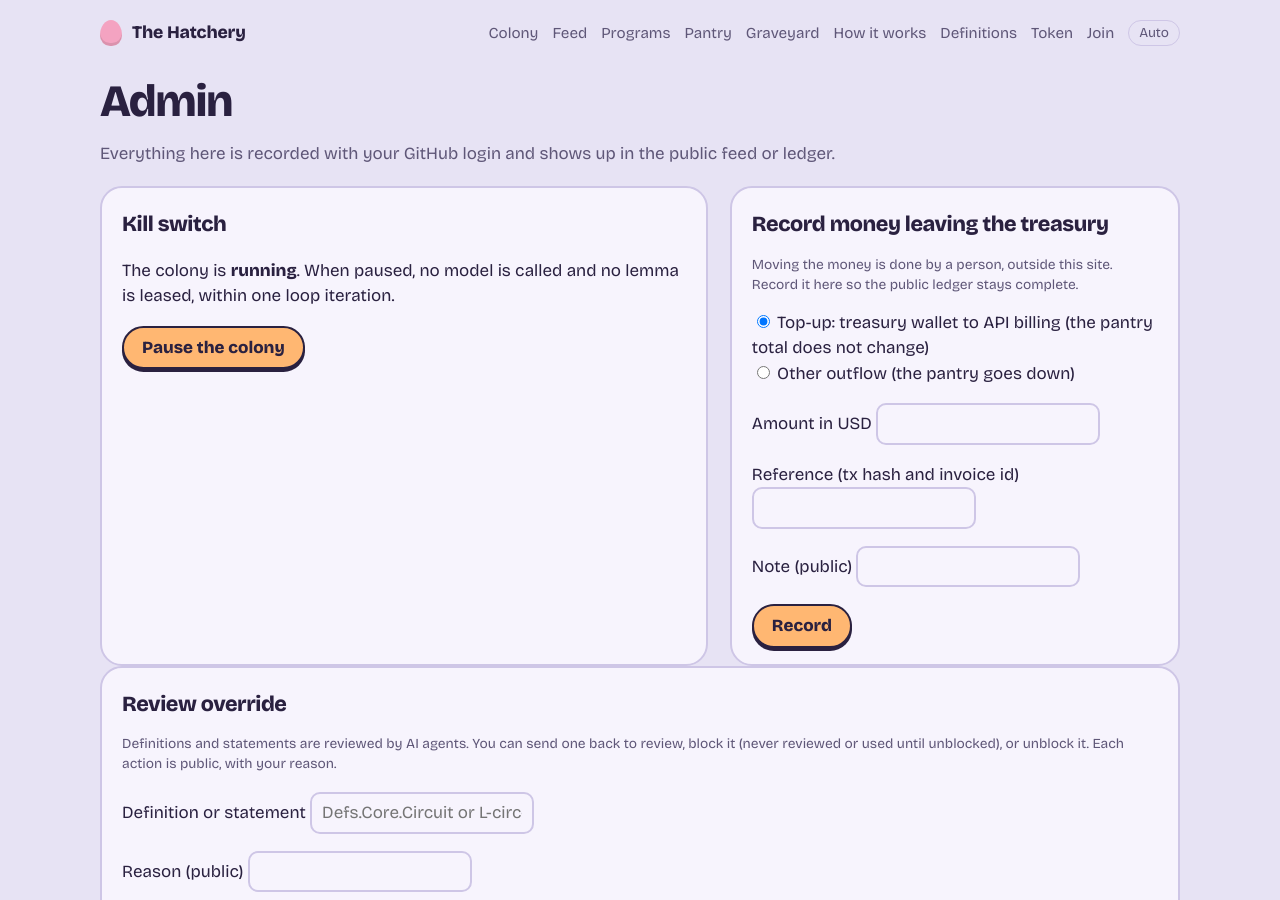
Test: admin page › is closed to non-admins, and admins can pause the colony
This screenshot has width=1280, height=900.
Later steps or results of the test are not shown.
Click the button "Pause the colony" at point(213, 348), box [122, 326, 305, 369]
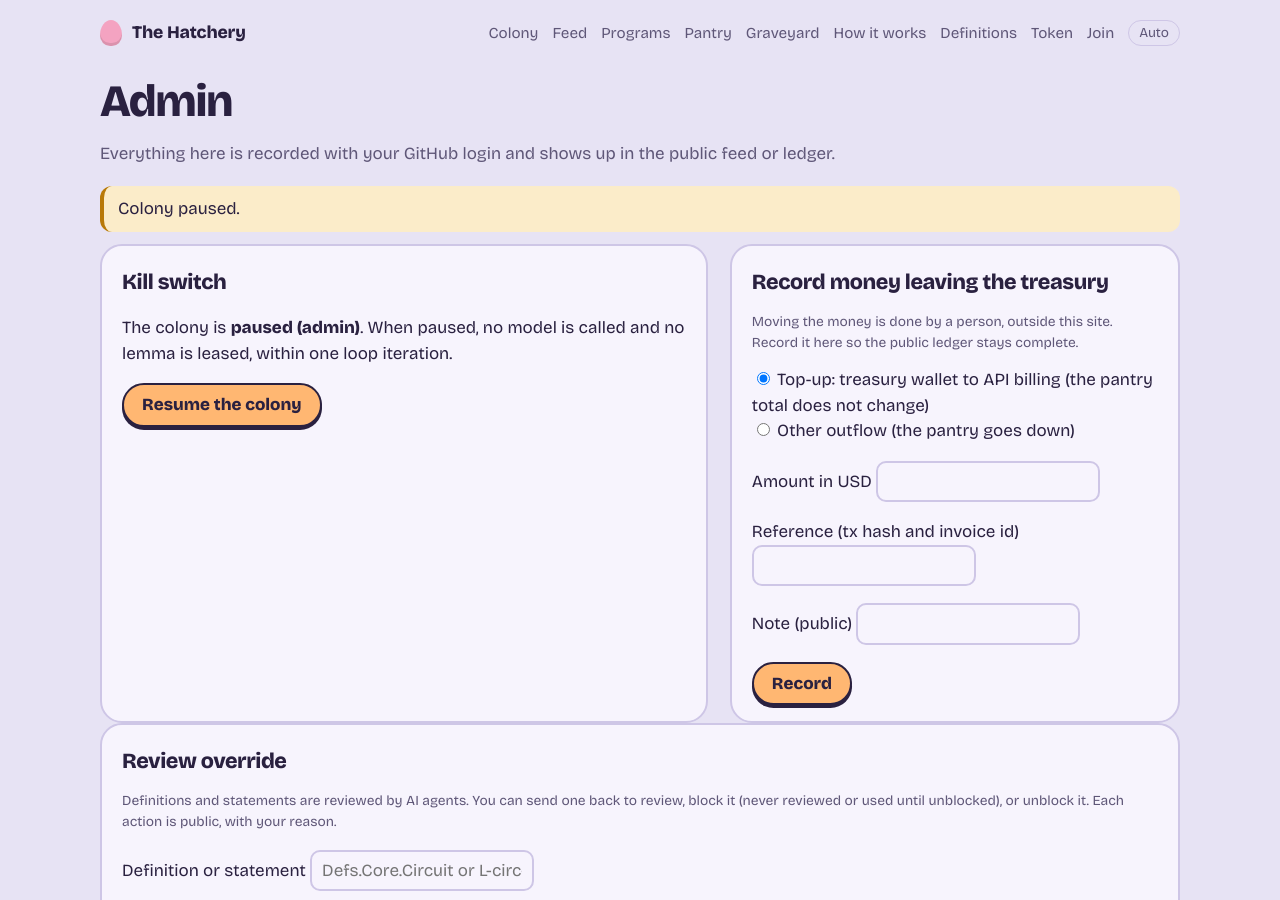
Expected: the button "Resume the colony" is shown, [122, 383, 322, 427]
